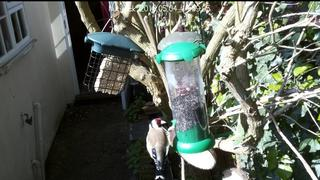goldfinch: (146, 118, 169, 180)
